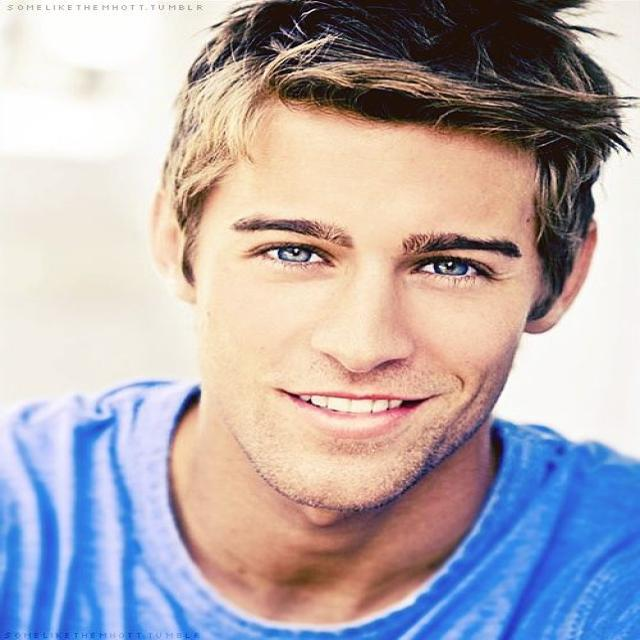front: (188, 193, 531, 458)
